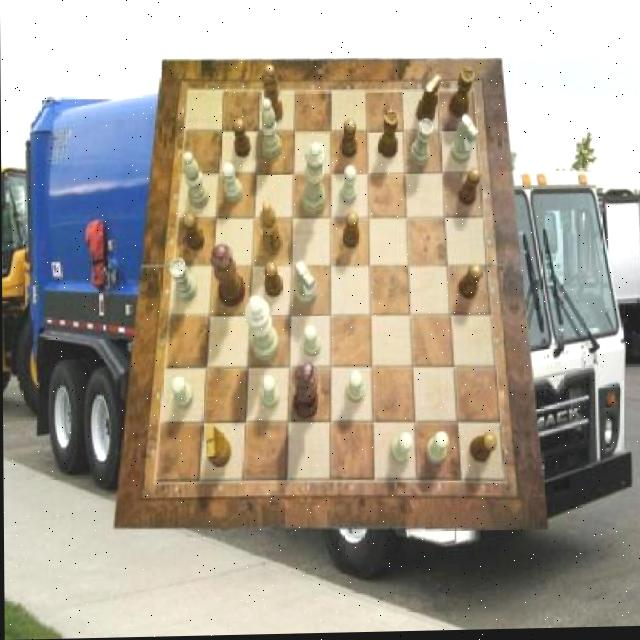bishop: (263, 66, 283, 125), (260, 201, 281, 255)
black-bishop: (293, 364, 319, 422)
black-king: (416, 77, 441, 126), (205, 425, 232, 468)
black-knight: (458, 170, 481, 208), (470, 434, 497, 466), (459, 266, 483, 302), (183, 214, 204, 252), (233, 120, 251, 160), (341, 122, 358, 160), (263, 263, 281, 298), (343, 214, 360, 250)
black-pawn: (209, 245, 245, 309)
black-queen: (450, 70, 474, 120), (378, 112, 399, 161)
black-rook: (184, 153, 209, 210), (261, 100, 281, 160)
white-bishop: (245, 295, 279, 362)
white-king: (451, 118, 479, 168), (294, 262, 317, 306)
white-knight: (222, 164, 243, 202), (426, 434, 449, 468), (171, 377, 194, 411), (390, 434, 413, 467), (261, 377, 280, 412), (340, 168, 357, 206), (347, 371, 365, 405), (302, 327, 320, 360)
white-pawn: (301, 144, 326, 217)
white-queen: (169, 258, 197, 303), (410, 122, 434, 170)
